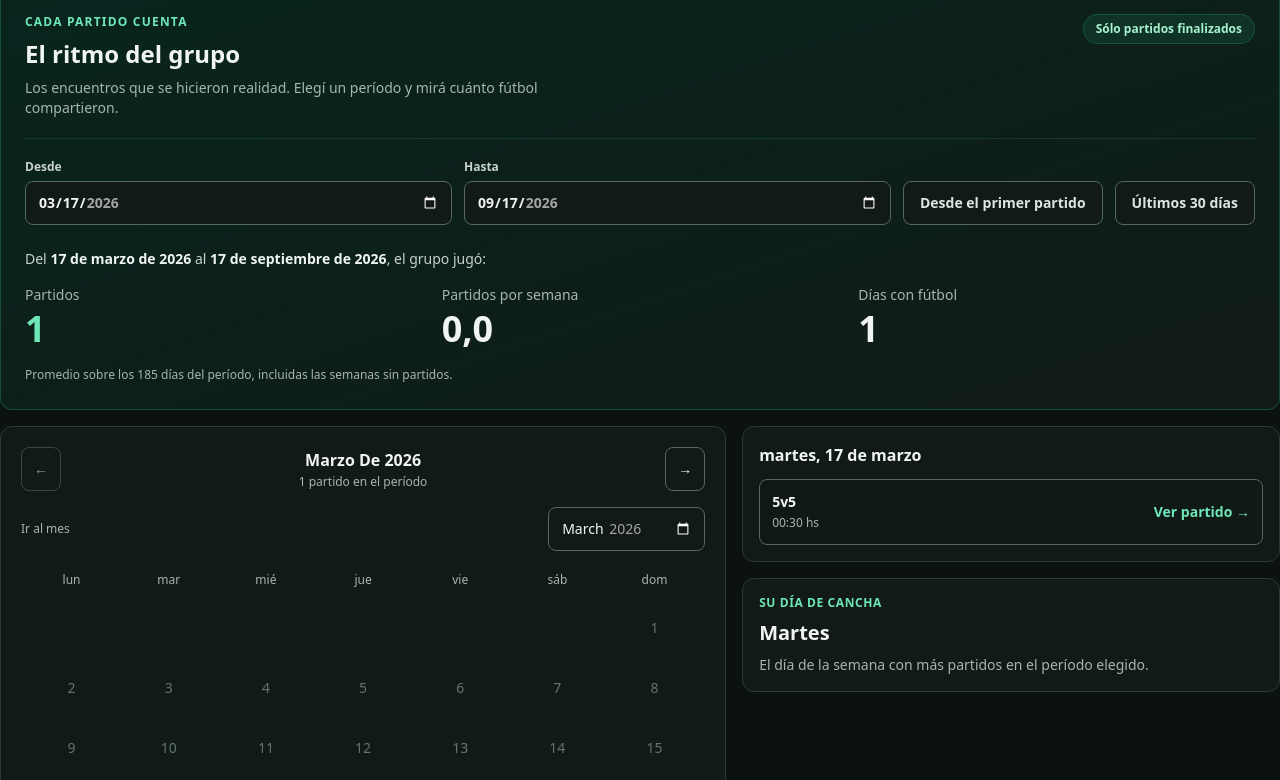
MatchActivityCalendar › conserva el primer partido asignado aunque sea anterior al inicio registrado (sólo anteriores: true)
expect the date field labelled "Desde" holds "2026-03-17": met, box [25,181,452,225]
expect the 1st text "1" is shown: met, box [25,304,46,353]
Click the button "Últimos 30 días" at (1185, 203), box [1115,181,1255,225]
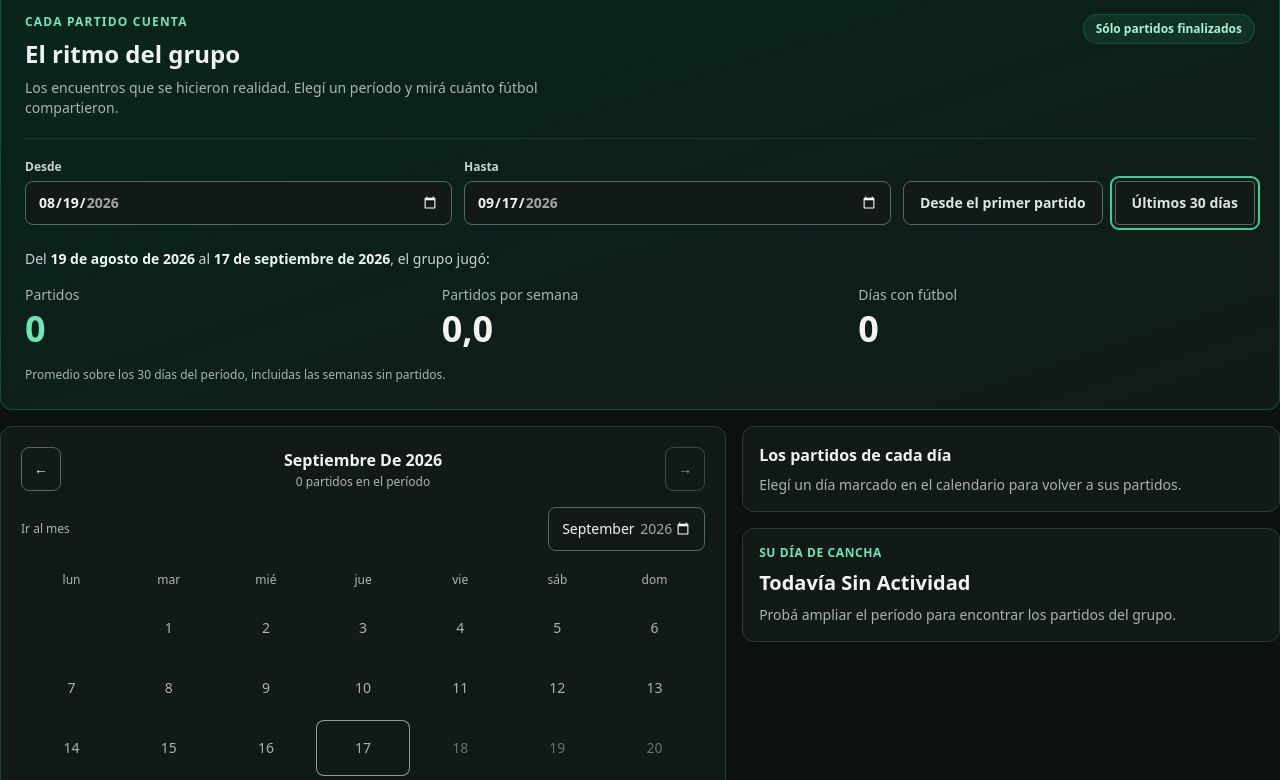
Click the button "Desde el primer partido" at (1003, 203), box [903,181,1103,225]
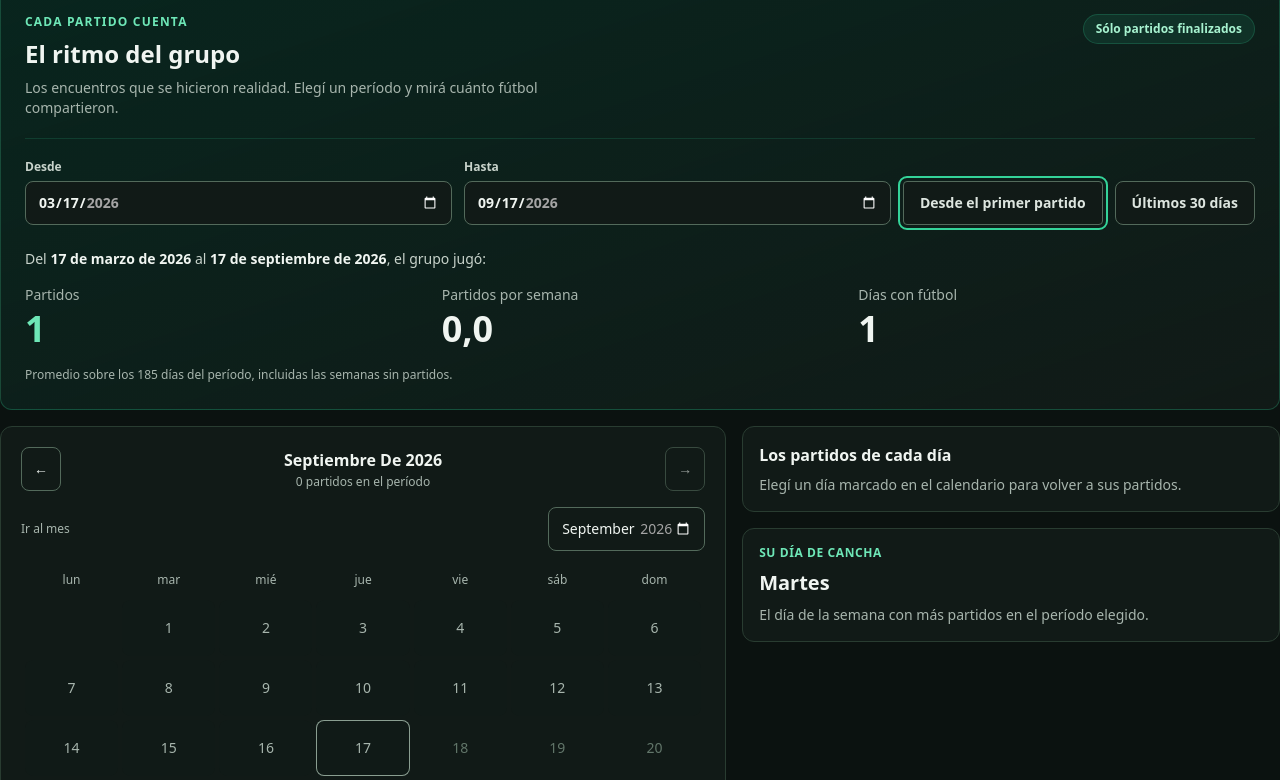
expect the date field labelled "Desde" holds "2026-03-17": met, box [25,181,452,225]
expect the 1st text "1" is shown: met, box [25,304,46,353]
expect the text "Promedio sobre los 185 días" is shown: met, box [25,366,452,383]
Replace the text in the field labelled "Ir al mes" with "2026-03" at (627, 528), box [548,506,705,550]
(page scrolled)
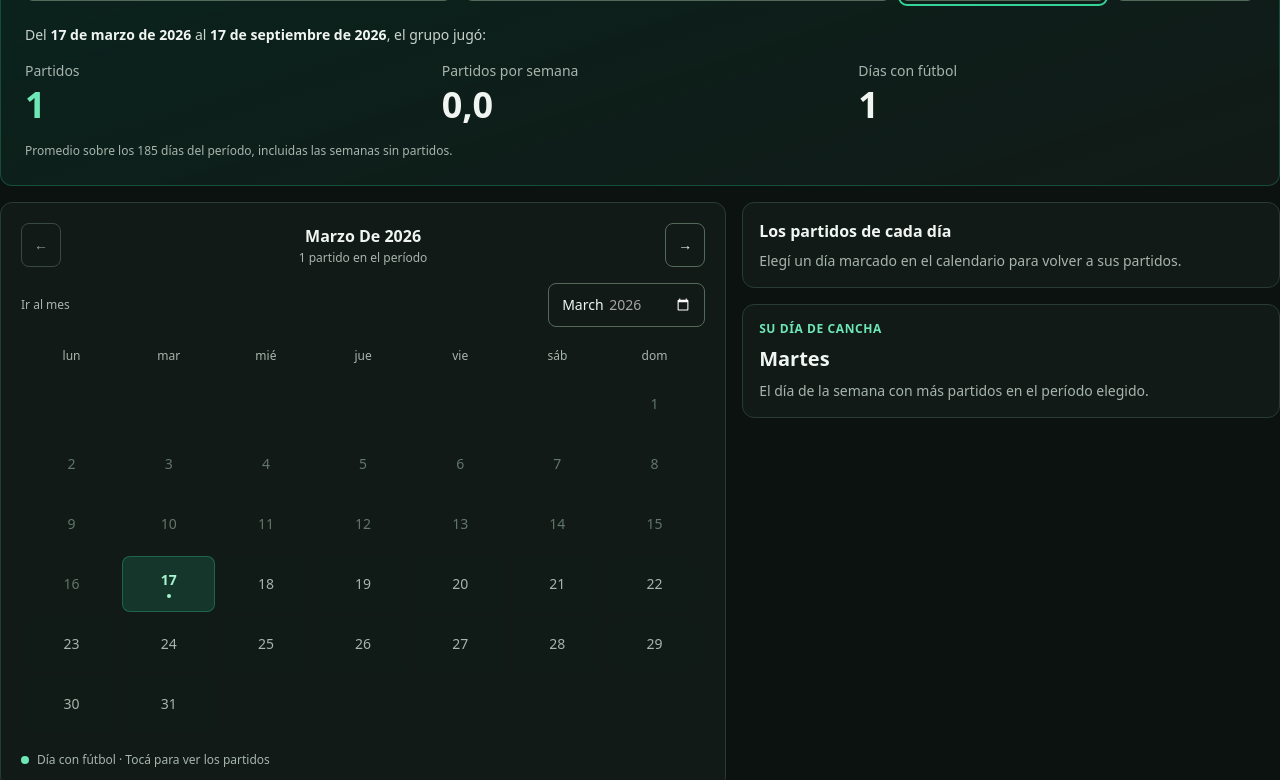
Click the button named "17 de marzo de 2026: 1 partido" at (169, 584), box [122,556,215,612]
(page scrolled)
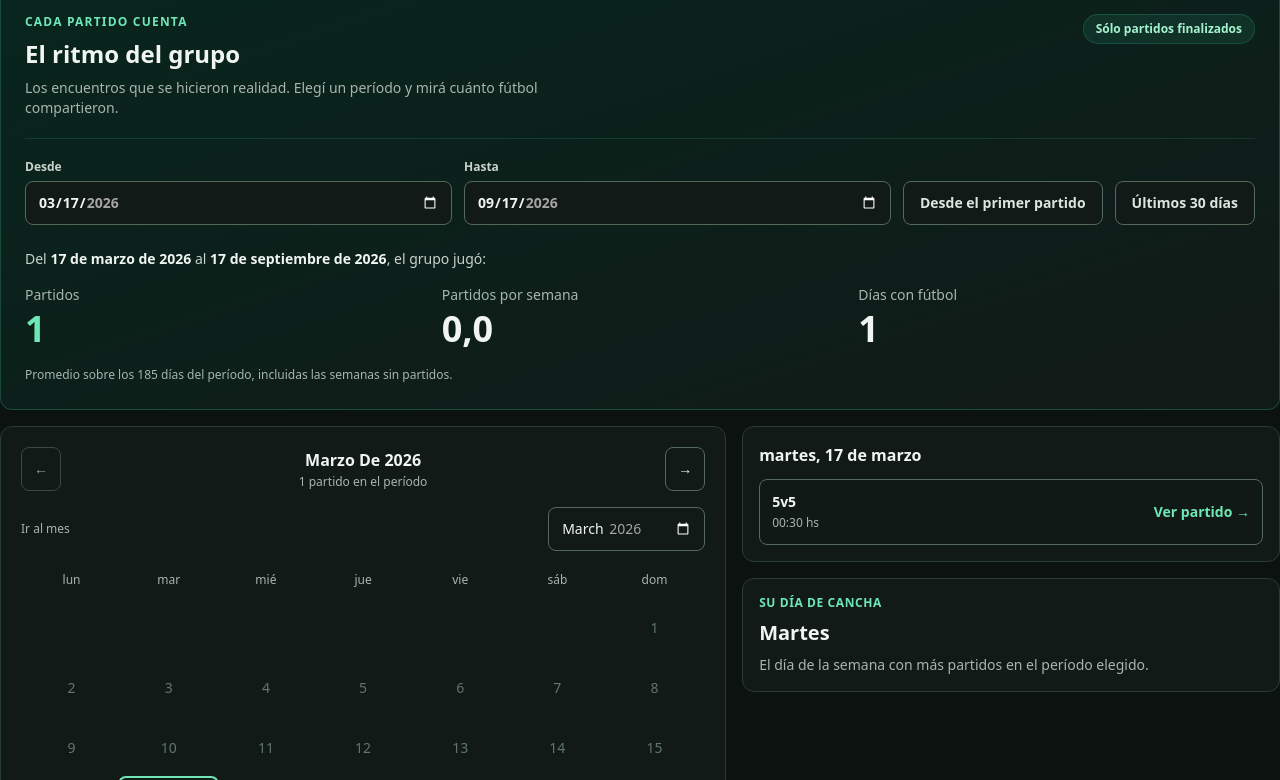
Type "2026-03-16" into the date field labelled "Desde" at (238, 203), box [25,181,452,225]
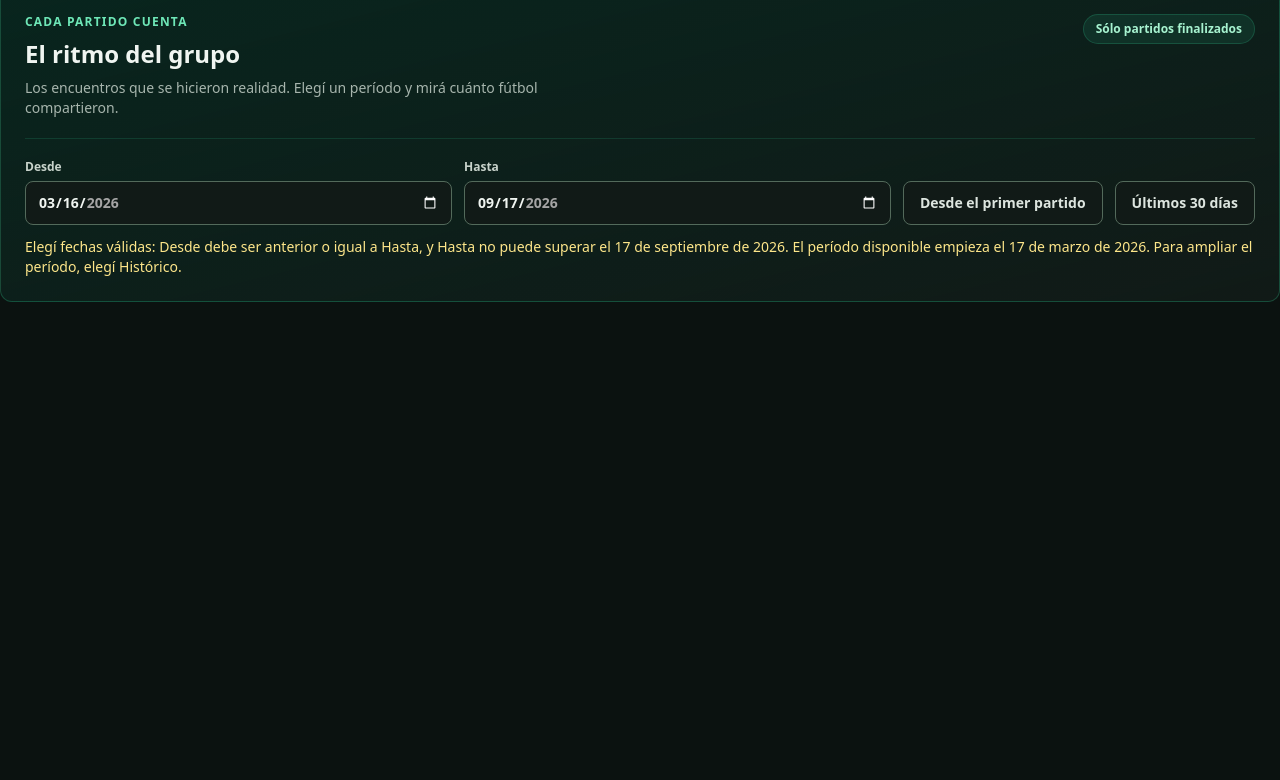
expect the message shows "El período disponible empieza el 17 de marzo de 2026": met, box [25,237,1252,276]
